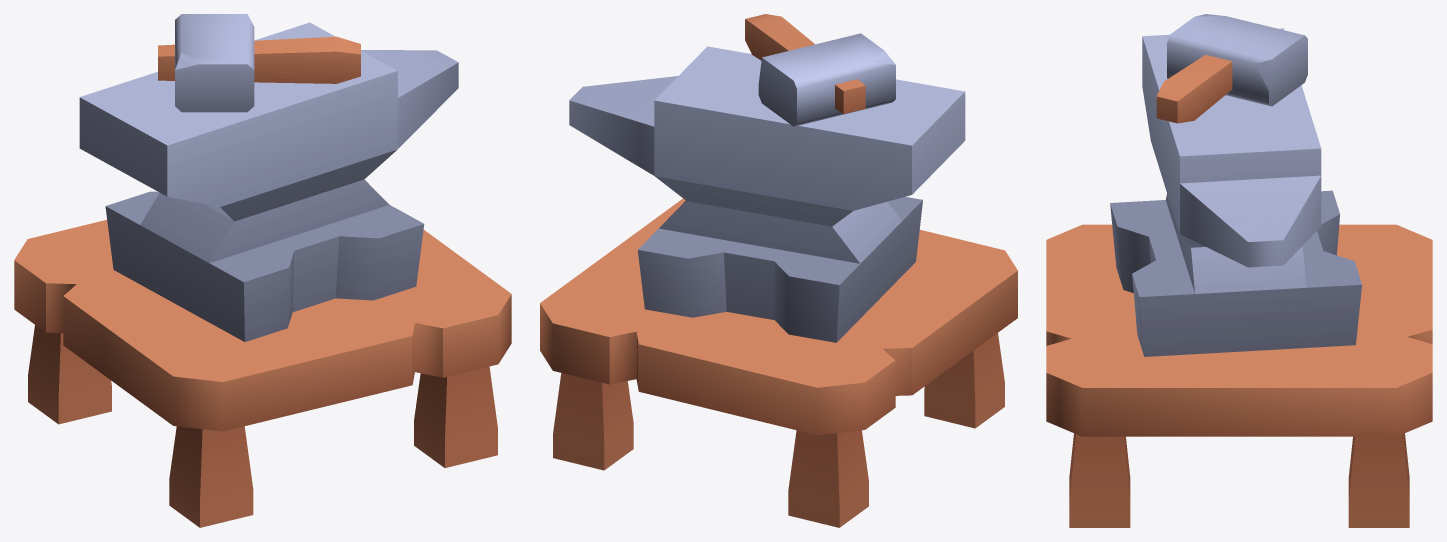
File: survival-kit-workbench-anvil.glb
3 views of the same model, side by side, from view 1: azimuth 30°, elevation 25°; view 2: azimuth 150°, elevation 25°; view 3: azimuth 270°, elevation 25° (orthographic). The views are drawn at different scales.
Parts seen in each view (by area): view 1: workbench-anvil, hammer; view 2: workbench-anvil, hammer; view 3: workbench-anvil, hammer.
Part boxes in pixels (<box>): workbench-anvil: <box>14,22,511,527</box>; hammer: <box>158,14,360,112</box>; workbench-anvil: <box>540,46,1017,527</box>; hammer: <box>745,14,895,126</box>; workbench-anvil: <box>1046,28,1432,527</box>; hammer: <box>1156,14,1307,123</box>.
Size of the model in its own units: 0.3227 by 0.3357 by 0.2957.
1 material, 1 textured.
